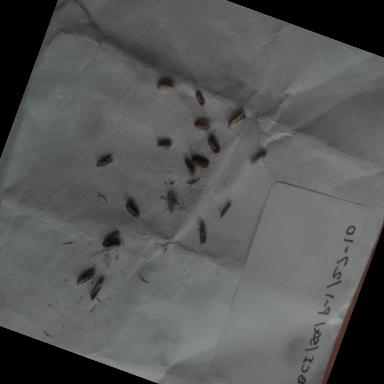pbw: (151, 130, 182, 158), (73, 262, 100, 294), (176, 154, 203, 184), (158, 186, 183, 218), (90, 148, 118, 176), (201, 132, 229, 159), (225, 106, 250, 136), (98, 226, 123, 255), (85, 274, 107, 306), (118, 198, 144, 224), (247, 144, 269, 174), (190, 221, 213, 248), (189, 86, 213, 111), (152, 77, 178, 99), (215, 198, 236, 224), (100, 238, 123, 260), (188, 153, 212, 172), (190, 116, 212, 136)
